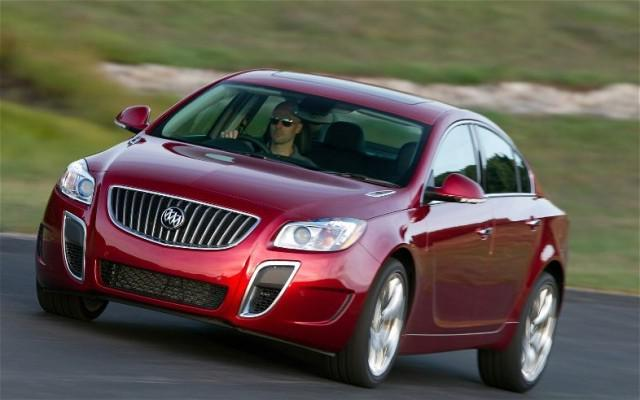Car: (27, 51, 592, 400)
